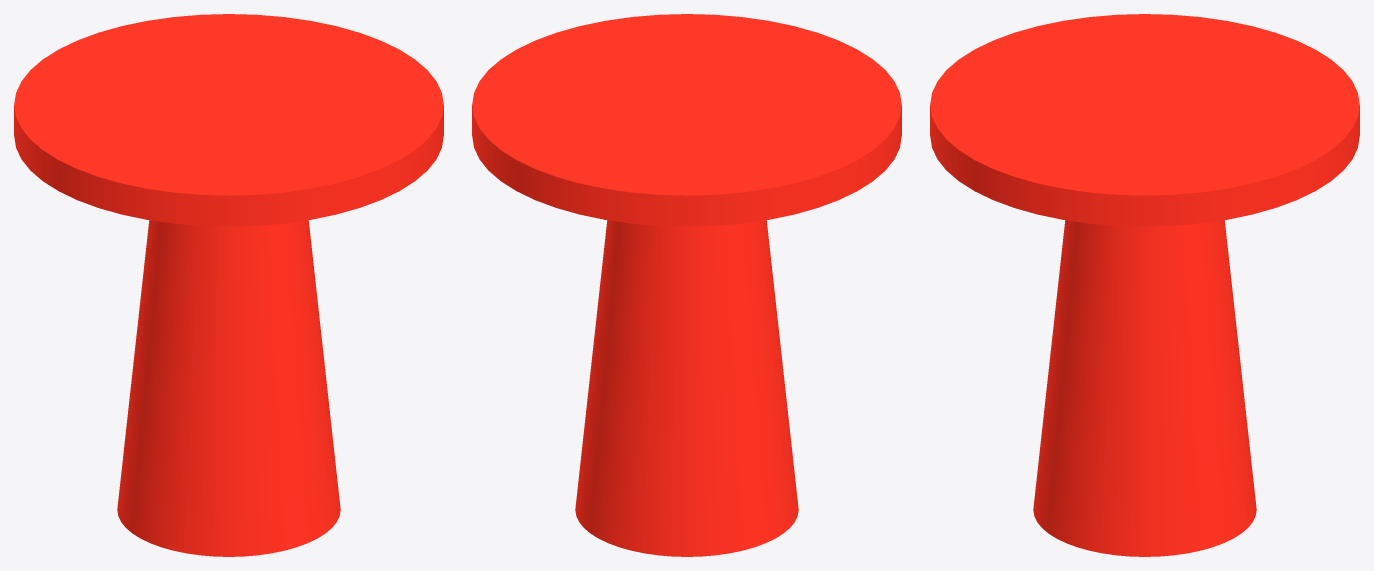
Rendered from ref06_18.glb.
The picture shows the model from 3 angles, left to right: view 1: azimuth 30°, elevation 25°; view 2: azimuth 150°, elevation 25°; view 3: azimuth 270°, elevation 25°; orthographic projection.
Visible parts, largest first — view 1: ref06_18; view 2: ref06_18; view 3: ref06_18.
Part boxes in pixels (x1,y1,x2,y2): ref06_18: (14,14,443,556); ref06_18: (472,14,901,556); ref06_18: (930,14,1359,556).
Bounding box in the file's own units: 0.5 × 0.52 × 0.5.
